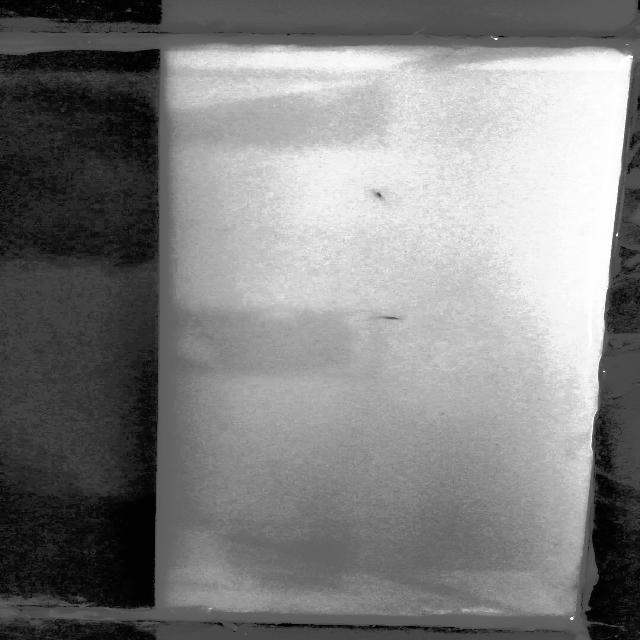shrimp: (371, 312, 408, 323), (365, 188, 392, 202)
